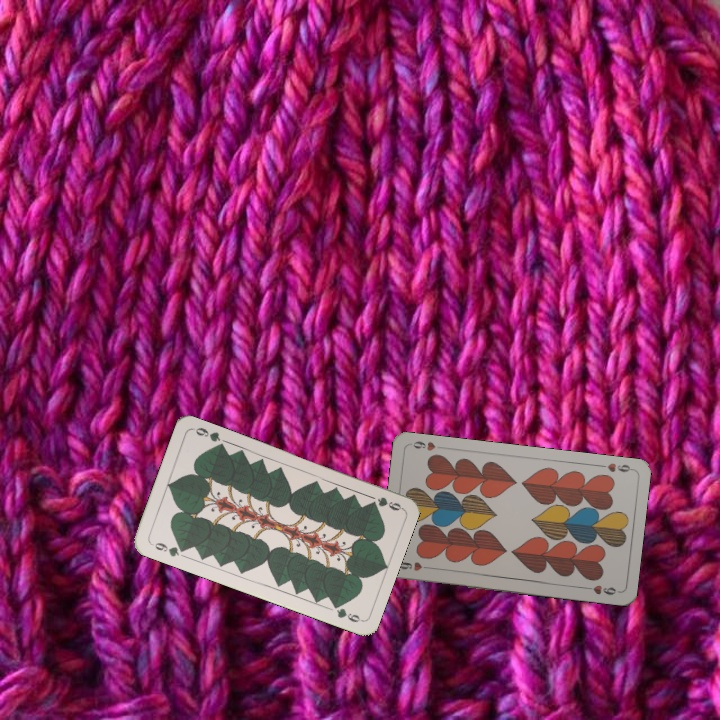G9: (147, 538, 188, 559), (367, 493, 405, 513)
H9: (393, 558, 434, 574), (595, 459, 635, 475)
